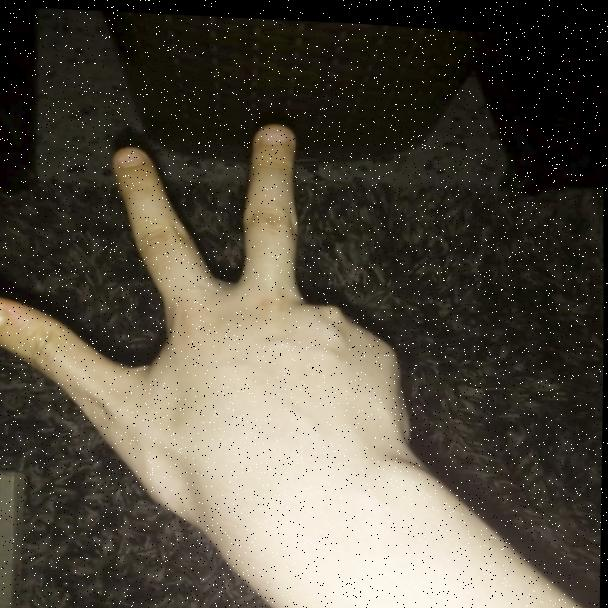three: (0, 104, 393, 486)
